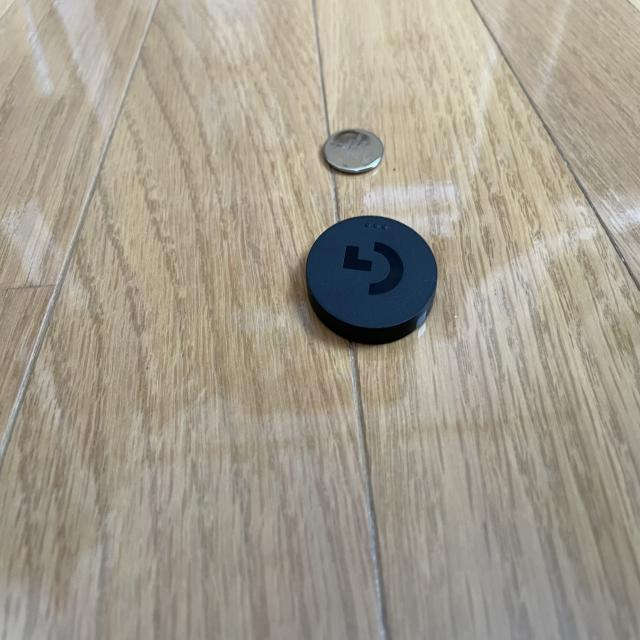COIN: (322, 128, 384, 175)
